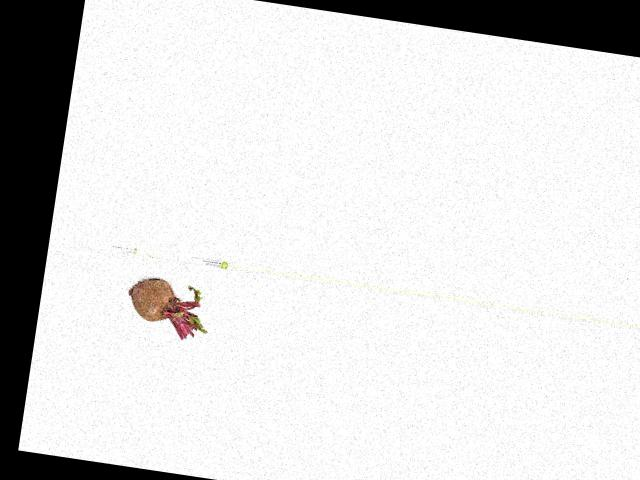beet: (122, 275, 213, 342)
